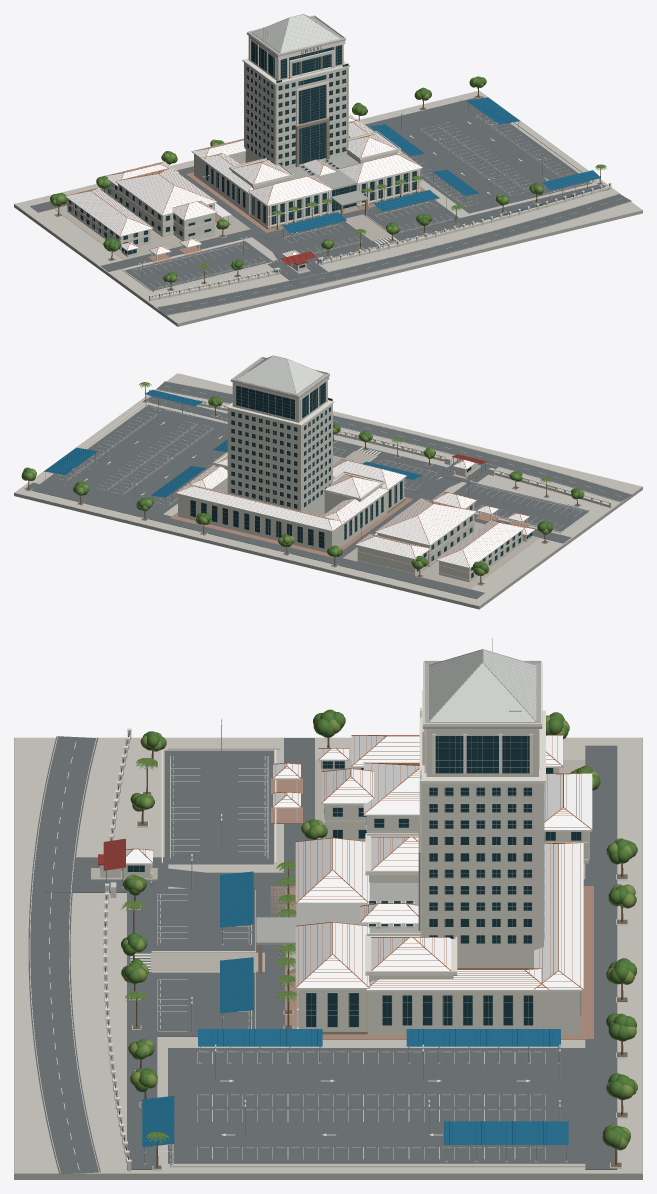
Rendered from umskal_.gltf.
3 renders of one model, top to bottom at view 1: azimuth 30°, elevation 25°; view 2: azimuth 150°, elevation 25°; view 3: azimuth 270°, elevation 25°, orthographic. The views are drawn at different scales.
Visible parts, largest first — view 1: Neutral unplanted site surface, East parking asphalt, Tower | cream shaft, Curved front public road, West parking asphalt, Front parking asphalt, Neutral architectural site slab, West administration building | terracotta roof, Front internal connecting drive, Pale metal hipped tower roof, Long outer west wing | terracotta roof, West building paved apron (+43 smaller); view 2: Neutral unplanted site surface, East parking asphalt, Tower | cream shaft, Curved front public road, Rear service road, West parking asphalt, Rear linking hall, West administration building | terracotta roof, Neutral architectural site slab, Rear linking hall roof, Pale metal hipped tower roof, Tower rear windows | glass (+34 smaller); view 3: Neutral unplanted site surface, East parking asphalt, Curved front public road, Tower | cream shaft, West parking asphalt, Rear service road, Front parking asphalt, Pale metal hipped tower roof, Rear linking hall roof, Front internal connecting drive, Neutral architectural site slab, Tower side windows | glass (+44 smaller).
Part boxes in pixels (left/top/right/bottom): Neutral unplanted site surface: left=14, top=90, right=642, bottom=323; East parking asphalt: left=373, top=106, right=591, bottom=213; Tower | cream shaft: left=244, top=62, right=348, bottom=168; Curved front public road: left=157, top=194, right=631, bottom=315; West parking asphalt: left=125, top=241, right=272, bottom=291; Front parking asphalt: left=277, top=199, right=459, bottom=253; Neutral architectural site slab: left=14, top=91, right=642, bottom=326; West administration building | terracotta roof: left=116, top=168, right=216, bottom=214; Front internal connecting drive: left=311, top=184, right=609, bottom=261; Pale metal hipped tower roof: left=253, top=14, right=339, bottom=52; Long outer west wing | terracotta roof: left=66, top=188, right=152, bottom=235; West building paved apron: left=54, top=205, right=250, bottom=259; Neutral unplanted site surface: left=14, top=373, right=641, bottom=605; East parking asphalt: left=40, top=405, right=227, bottom=514; Tower | cream shaft: left=227, top=403, right=332, bottom=515; Curved front public road: left=156, top=381, right=632, bottom=501; Rear service road: left=25, top=482, right=484, bottom=598; West parking asphalt: left=453, top=482, right=588, bottom=532; Rear linking hall: left=178, top=494, right=343, bottom=552; West administration building | terracotta roof: left=375, top=498, right=475, bottom=544; Neutral architectural site slab: left=14, top=374, right=642, bottom=609; Rear linking hall roof: left=176, top=484, right=341, bottom=530; Pale metal hipped tower roof: left=237, top=356, right=323, bottom=394; Tower rear windows | glass: left=231, top=411, right=297, bottom=508; Neutral unplanted site surface: left=14, top=737, right=642, bottom=1173; East parking asphalt: left=168, top=1048, right=585, bottom=1163; Curved front public road: left=28, top=736, right=100, bottom=1174; Tower | cream shaft: left=421, top=783, right=543, bottom=968; West parking asphalt: left=164, top=750, right=273, bottom=864; Rear service road: left=585, top=745, right=617, bottom=1169; Front parking asphalt: left=157, top=888, right=254, bottom=1036; Pale metal hipped tower roof: left=429, top=650, right=536, bottom=721; Rear linking hall roof: left=534, top=843, right=583, bottom=989; Front internal connecting drive: left=127, top=892, right=157, bottom=1169; Neutral architectural site slab: left=14, top=737, right=642, bottom=1179; Tower side windows | glass: left=429, top=787, right=531, bottom=943.
Size of the model in its own units: 175 by 58.32 by 106.
